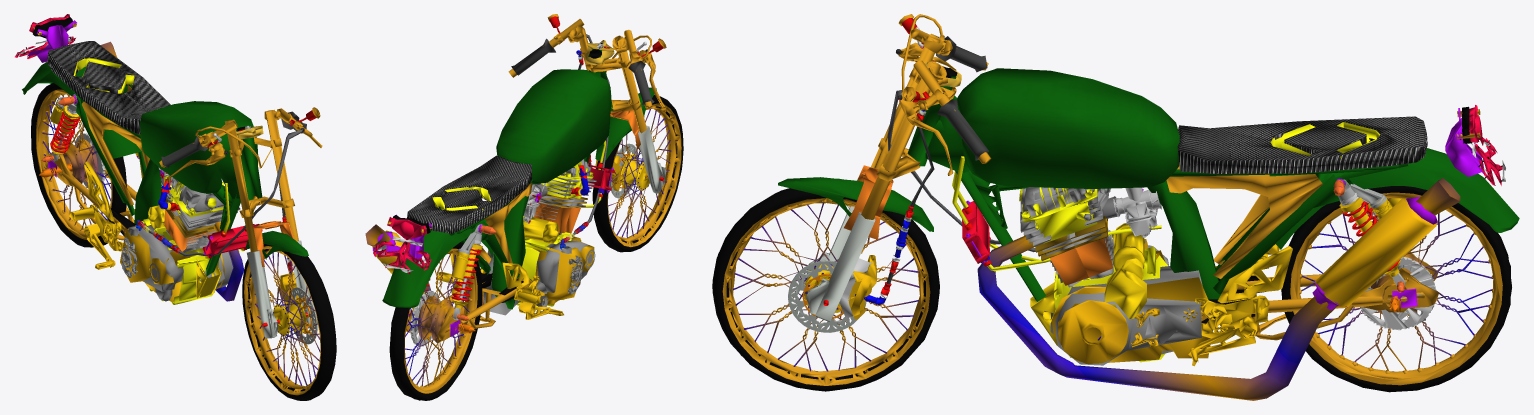
3 renders of one model, left to right at view 1: azimuth 30°, elevation 25°; view 2: azimuth 150°, elevation 25°; view 3: azimuth 270°, elevation 25°, orthographic. The views are drawn at different scales.
Visible parts, largest first — view 1: chassis.003_chassis.005, ban depan, steer, ban belakang, rear, axle depan; view 2: chassis.003_chassis.005, ban belakang, ban depan, steer, rear, axle depan; view 3: chassis.003_chassis.005, ban depan, ban belakang, steer, rear, axle depan.
Boxes of the visible parts, <box> form: chassis.003_chassis.005: <box>15,14,304,304</box>; ban depan: <box>242,243,336,400</box>; steer: <box>159,107,322,266</box>; ban belakang: <box>31,83,126,247</box>; rear: <box>39,94,136,240</box>; axle depan: <box>247,183,313,338</box>; chassis.003_chassis.005: <box>365,34,614,319</box>; ban belakang: <box>389,242,482,400</box>; ban depan: <box>592,94,683,252</box>; steer: <box>508,14,666,161</box>; rear: <box>406,224,531,340</box>; axle depan: <box>576,50,666,193</box>; chassis.003_chassis.005: <box>887,58,1519,400</box>; ban depan: <box>712,188,939,391</box>; ban belakang: <box>1281,186,1511,392</box>; steer: <box>778,14,991,239</box>; rear: <box>1201,179,1438,340</box>; axle depan: <box>806,109,934,321</box>.
Bounding box in the file's own units: 0.5304 × 1.77 × 0.8363.
88 materials, 15 textured.
